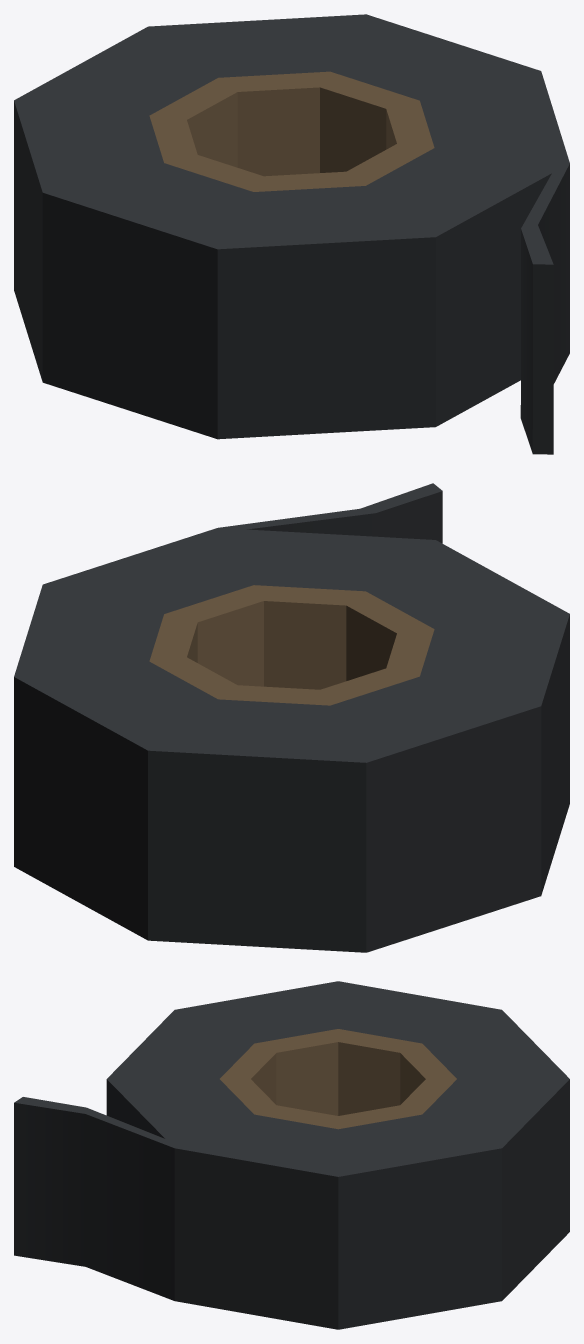
File: SM_Item_Tape_01.fbx
The picture shows the model from 3 angles, top to bottom: view 1: azimuth 30°, elevation 25°; view 2: azimuth 150°, elevation 25°; view 3: azimuth 270°, elevation 25°; orthographic projection. The views are drawn at different scales.
Visible parts, largest first — view 1: SM_Item_Tape_01; view 2: SM_Item_Tape_01; view 3: SM_Item_Tape_01.
Part boxes in pixels (x1,y1,x2,y2): SM_Item_Tape_01: (14, 14, 569, 454); SM_Item_Tape_01: (14, 483, 569, 952); SM_Item_Tape_01: (14, 981, 569, 1329).
Bounding box in the file's own units: 20.81 × 7.58 × 24.98.
